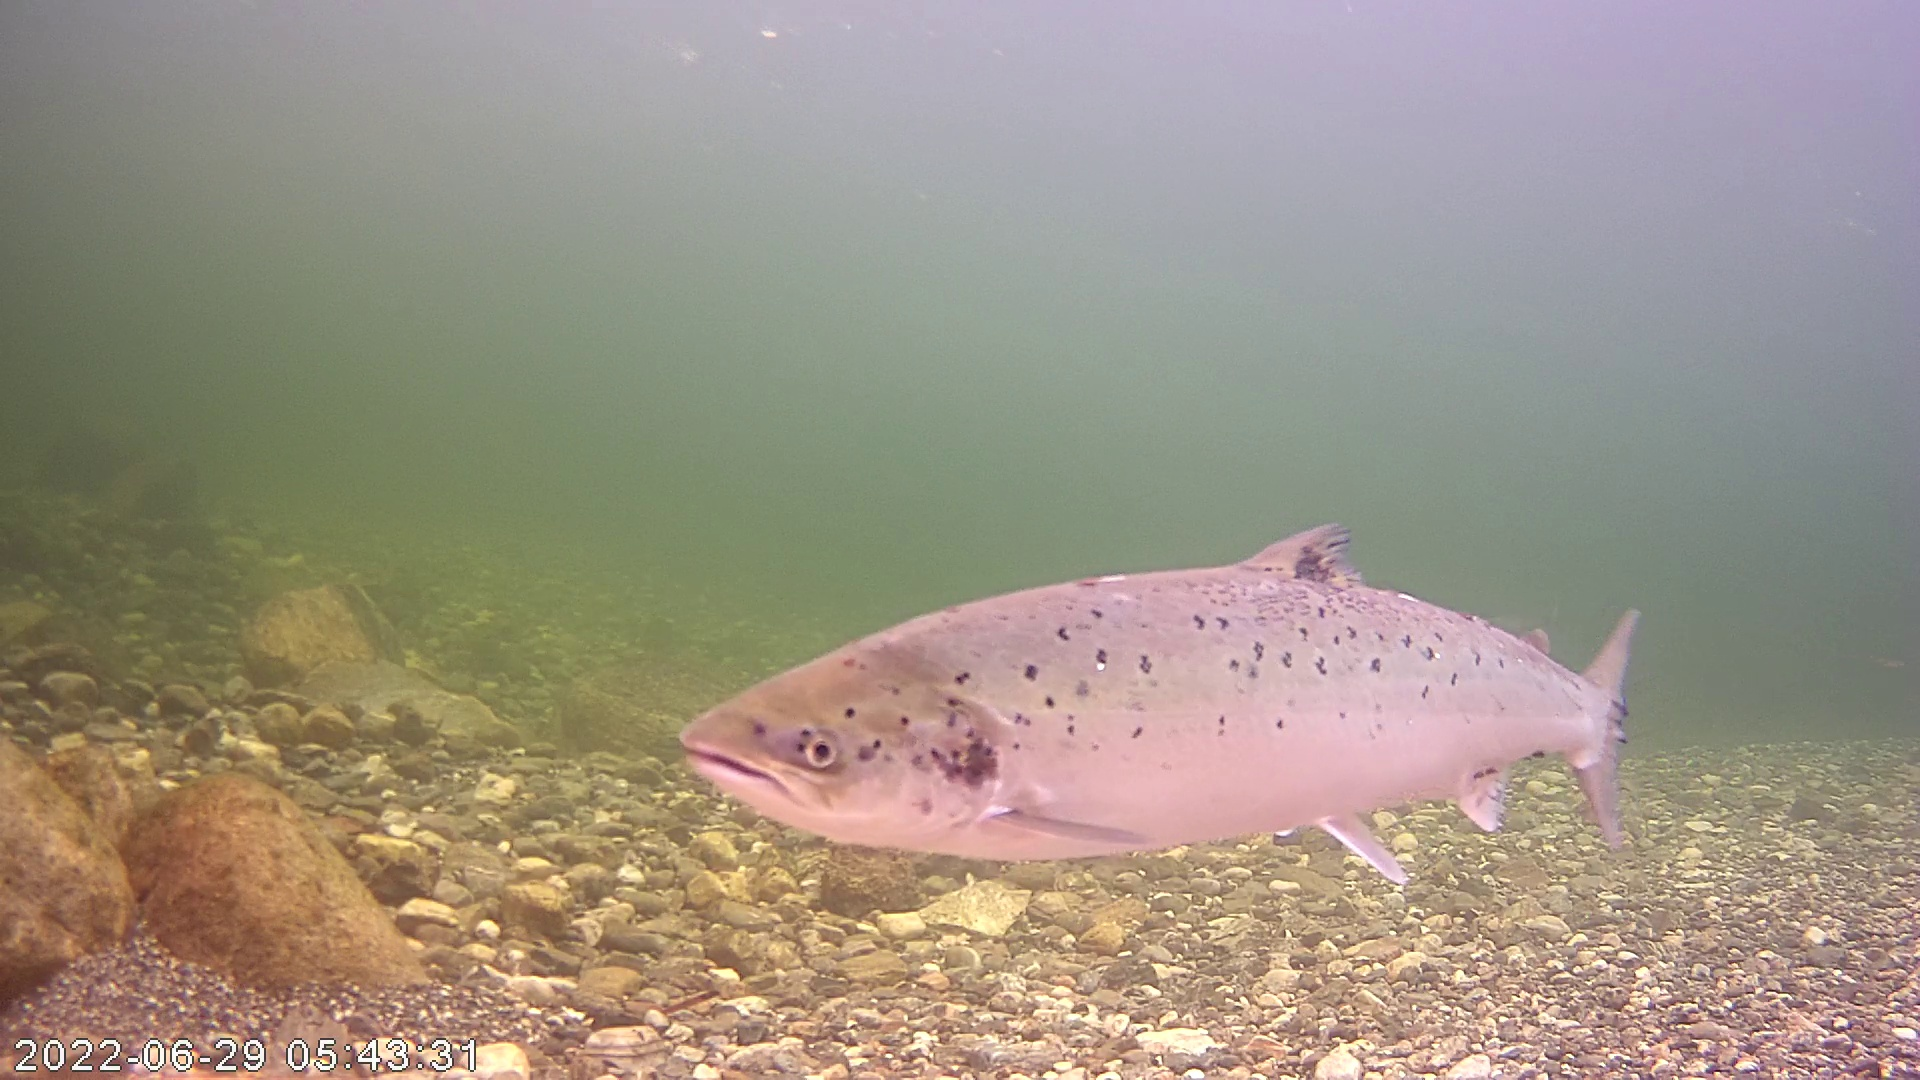salmon: (688, 434, 1651, 882)
